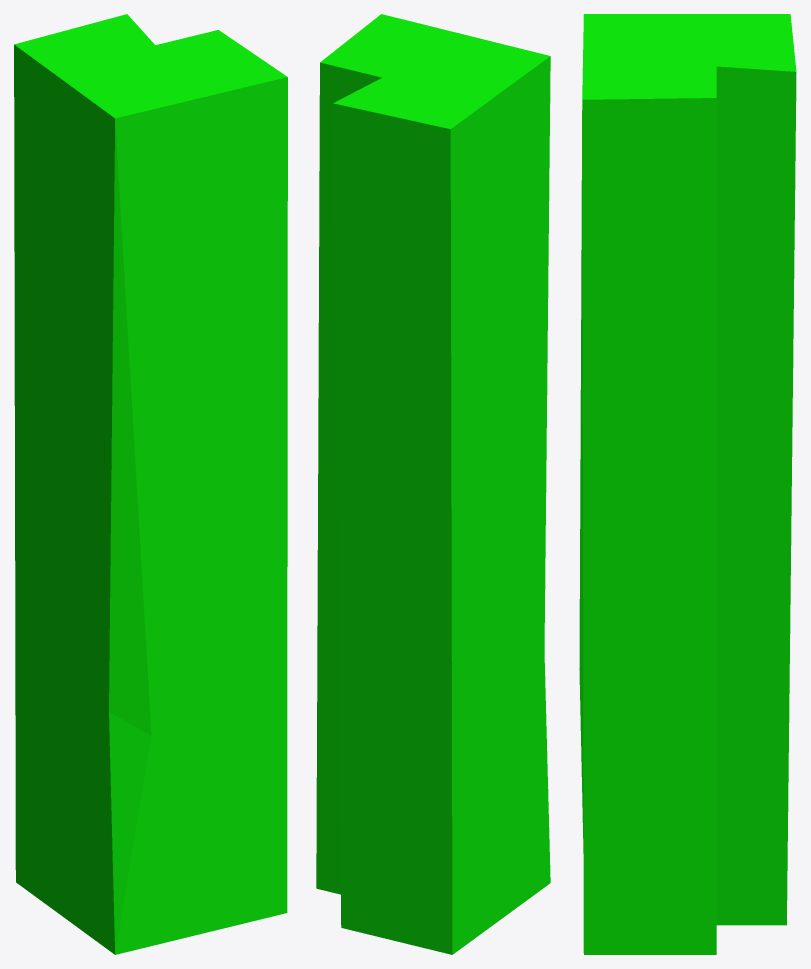
Rendered from SM_Wall_Beam_Vertical_Corner_Out_A_1m.fbx.
The picture shows the model from 3 angles, left to right: view 1: azimuth 30°, elevation 25°; view 2: azimuth 150°, elevation 25°; view 3: azimuth 270°, elevation 25°; orthographic projection. The views are drawn at different scales.
Visible parts, largest first — view 1: wall-beam-vertical-corner-out-a-1m; view 2: wall-beam-vertical-corner-out-a-1m; view 3: wall-beam-vertical-corner-out-a-1m.
Boxes of the visible parts, bbox=[...] form: wall-beam-vertical-corner-out-a-1m: bbox=[14, 14, 287, 954]; wall-beam-vertical-corner-out-a-1m: bbox=[316, 14, 550, 954]; wall-beam-vertical-corner-out-a-1m: bbox=[579, 14, 796, 954].
Bounding box in the file's own units: 0.25 × 1.16 × 0.2672.
